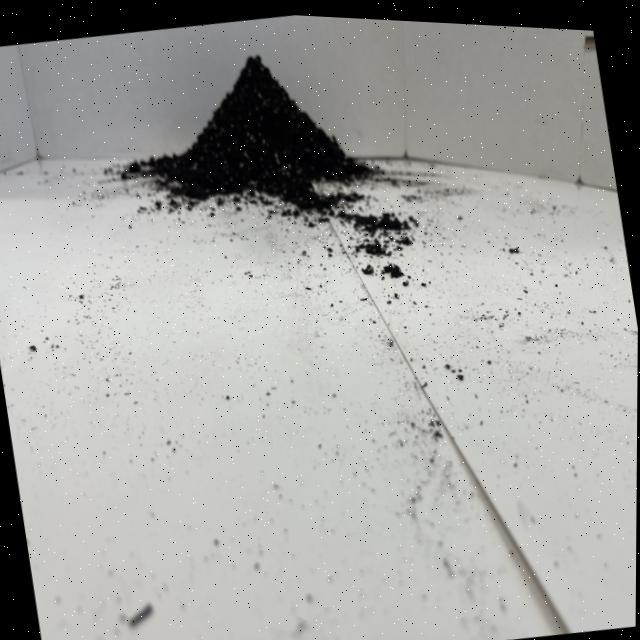soil: (101, 27, 382, 243)
